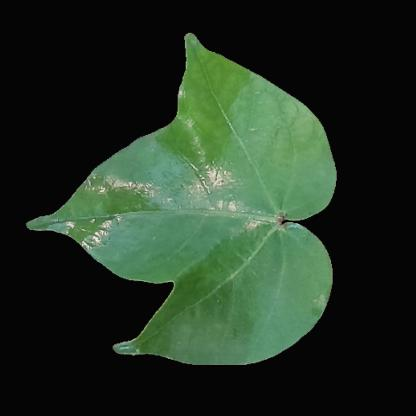healthy: (179, 101, 297, 211), (184, 231, 298, 320), (99, 162, 185, 278), (184, 305, 272, 360)
